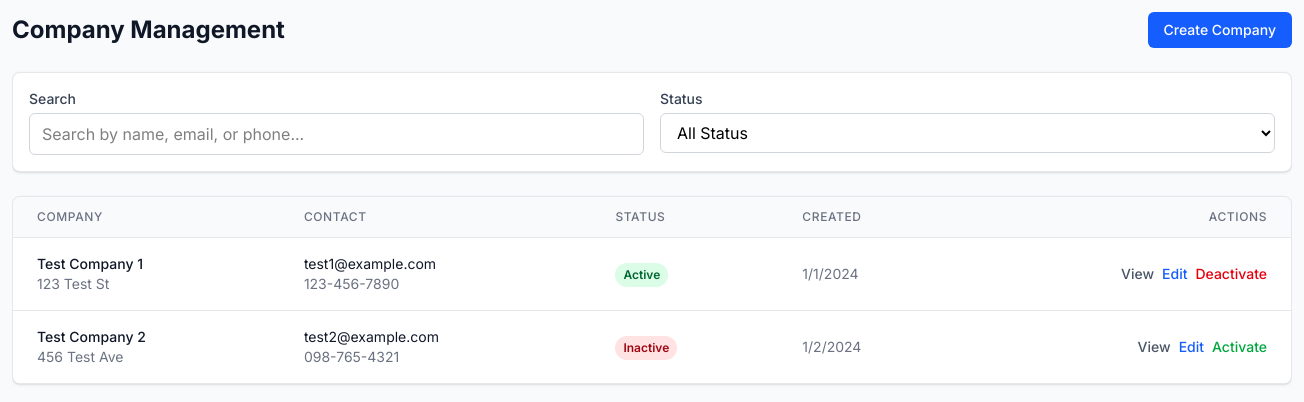
CompanyList › filters companies by search term
Expected: the text "Test Company 1" is shown, [37,255,143,272]
Expected: the text "Test Company 2" is shown, [37,328,146,345]
# Search for specific company
Type "Test Company 1" into the field with placeholder "Search by name, email, or phone..." at (336, 134), box [29,113,644,155]
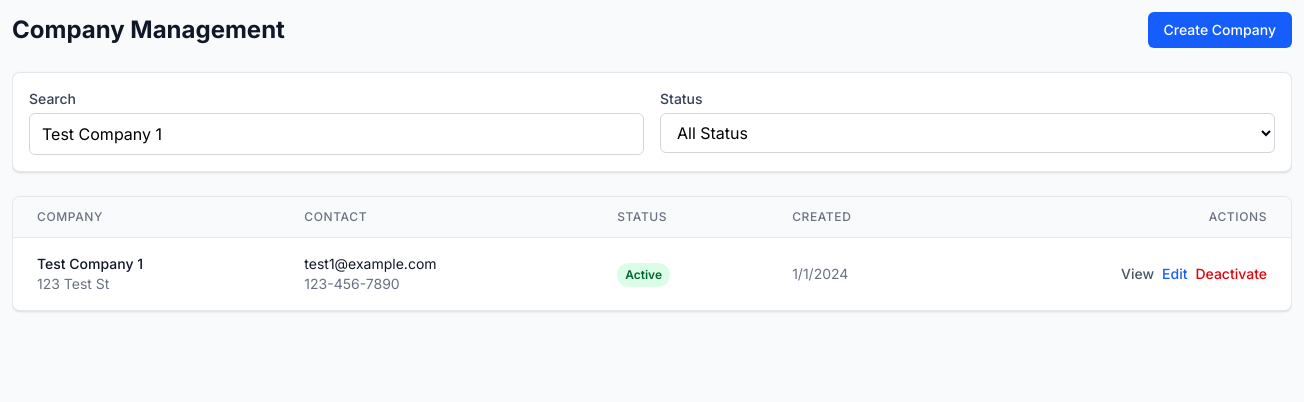
Expected: the text "Test Company 1" is shown, [37,255,143,272]
Expected: the text "Test Company 2" is gone
